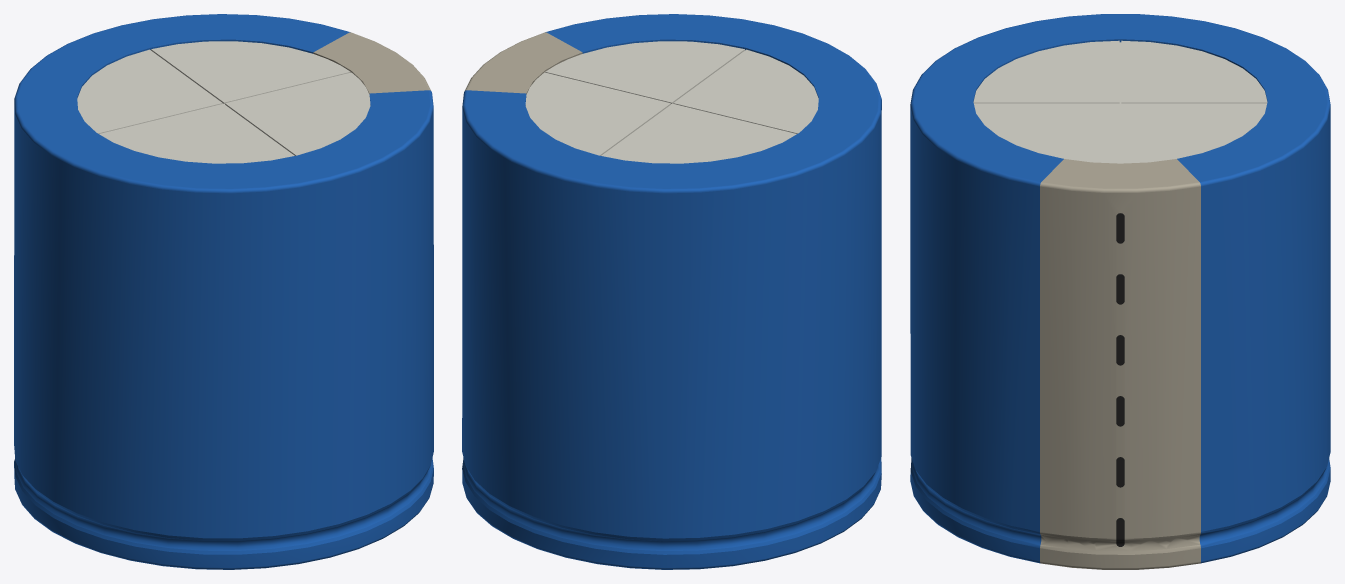
Rendered from kc-cp_radial_d25.0mm_p10.00mm_snapin.glb.
3 renders of one model, left to right at view 1: azimuth 30°, elevation 25°; view 2: azimuth 150°, elevation 25°; view 3: azimuth 270°, elevation 25°, orthographic.
Visible parts, largest first — view 1: 0_0.16666666666666666_0.5_0, 0.6666666666666666_0.6666666666666666_0.5833333333333334_0.8, 0.4166666666666667_0.4166666666666667_0.3333333333333333_0; view 2: 0_0.16666666666666666_0.5_0, 0.6666666666666666_0.6666666666666666_0.5833333333333334_0.8, 0.4166666666666667_0.4166666666666667_0.3333333333333333_0; view 3: 0_0.16666666666666666_0.5_0, 0.4166666666666667_0.4166666666666667_0.3333333333333333_0, 0.6666666666666666_0.6666666666666666_0.5833333333333334_0.8, 0_0_0_0.
Boxes of the visible parts, <box> form: 0_0.16666666666666666_0.5_0: <box>14,14,433,569</box>; 0.6666666666666666_0.6666666666666666_0.5833333333333334_0.8: <box>77,41,370,163</box>; 0.4166666666666667_0.4166666666666667_0.3333333333333333_0: <box>313,32,430,94</box>; 0_0.16666666666666666_0.5_0: <box>462,14,881,569</box>; 0.6666666666666666_0.6666666666666666_0.5833333333333334_0.8: <box>525,41,818,163</box>; 0.4166666666666667_0.4166666666666667_0.3333333333333333_0: <box>465,32,582,94</box>; 0_0.16666666666666666_0.5_0: <box>910,14,1330,563</box>; 0.4166666666666667_0.4166666666666667_0.3333333333333333_0: <box>1040,159,1200,569</box>; 0.6666666666666666_0.6666666666666666_0.5833333333333334_0.8: <box>973,40,1267,163</box>; 0_0_0_0: <box>1116,213,1124,546</box>.
Size of the model in its own units: 2.5 by 2.7 by 2.5.
